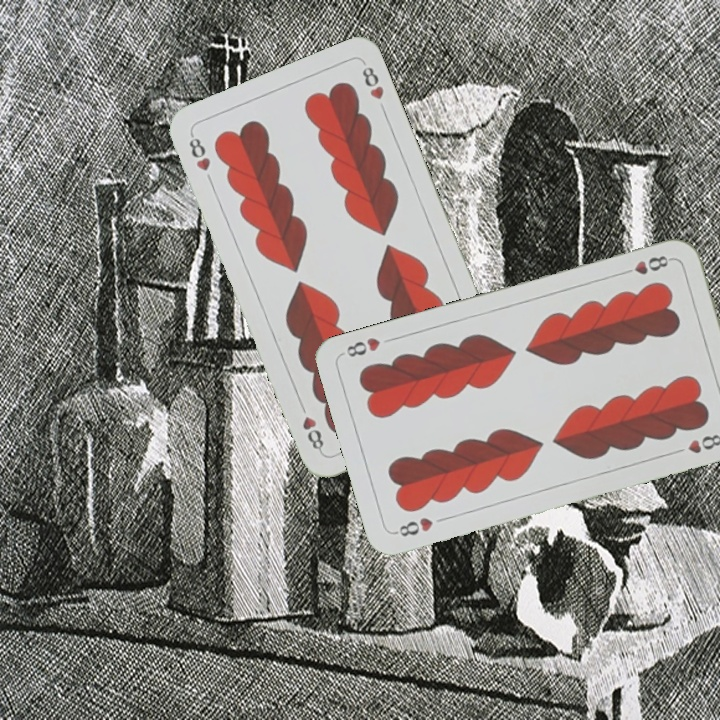H8: (617, 251, 675, 278), (390, 513, 436, 540), (185, 130, 213, 174)
